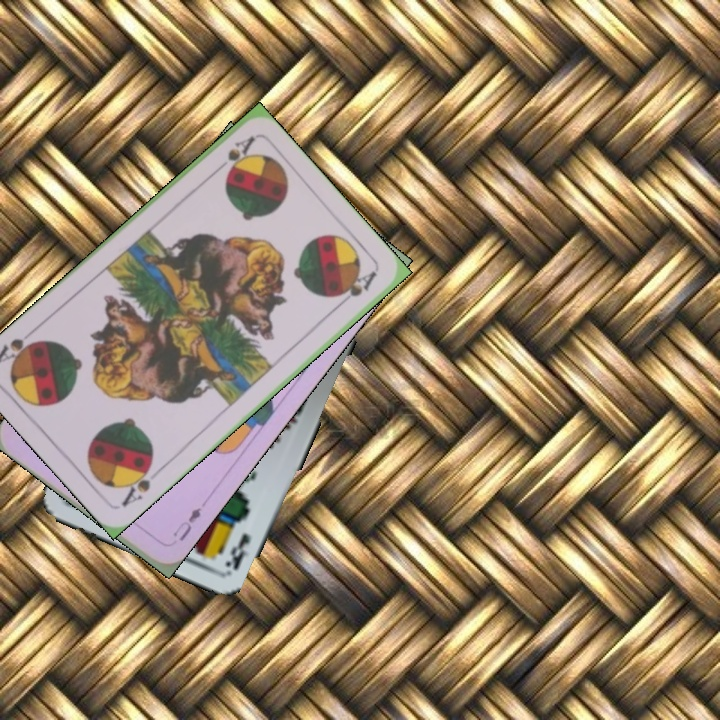EK: (221, 529, 253, 573)
EU: (169, 503, 205, 544)
SA: (117, 457, 164, 510), (209, 132, 257, 177)
